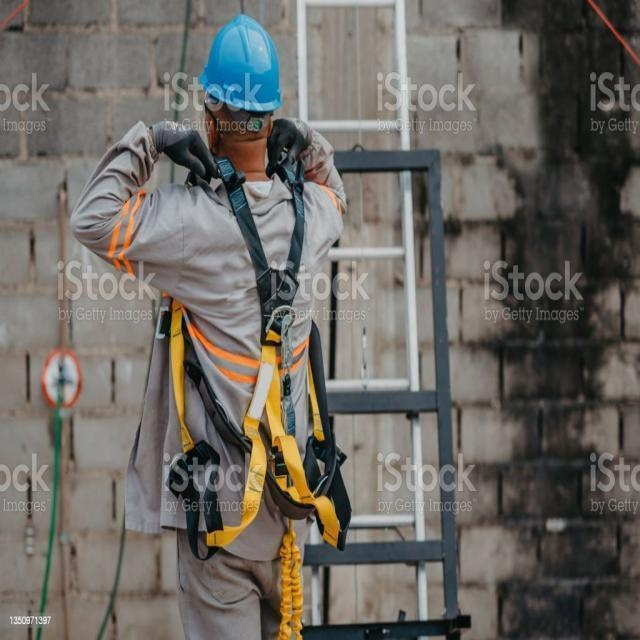Arnes_seguridad: (166, 160, 331, 544)
